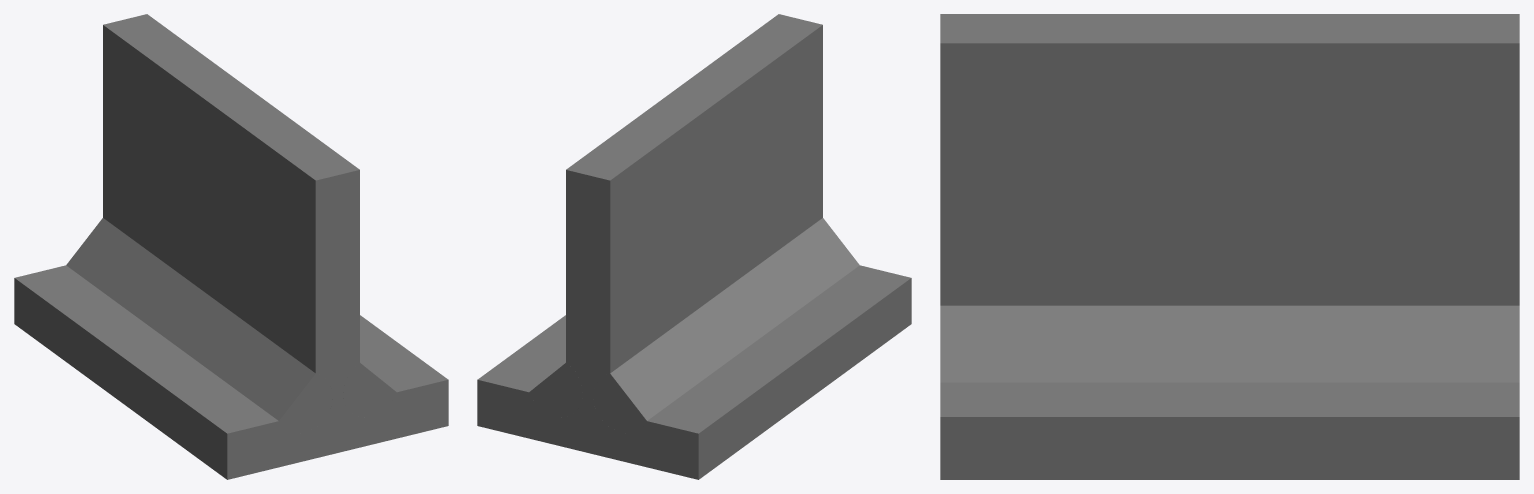
3 renders of one model, left to right at view 1: azimuth 30°, elevation 25°; view 2: azimuth 150°, elevation 25°; view 3: azimuth 270°, elevation 25°, orthographic. The views are drawn at different scales.
Visible parts, largest first — view 1: mesh_id4, mesh_id5; view 2: mesh_id4, mesh_id5; view 3: mesh_id4, mesh_id5.
Boxes of the visible parts, x1,y1,x2,y2 form: mesh_id4: (14, 14, 448, 479); mesh_id5: (66, 218, 396, 433); mesh_id4: (477, 14, 911, 479); mesh_id5: (529, 218, 859, 433); mesh_id4: (940, 14, 1519, 479); mesh_id5: (940, 305, 1519, 382).
Size of the model in its own units: 0.4267 by 0.512 by 0.7111.
2 materials, 2 textured.
